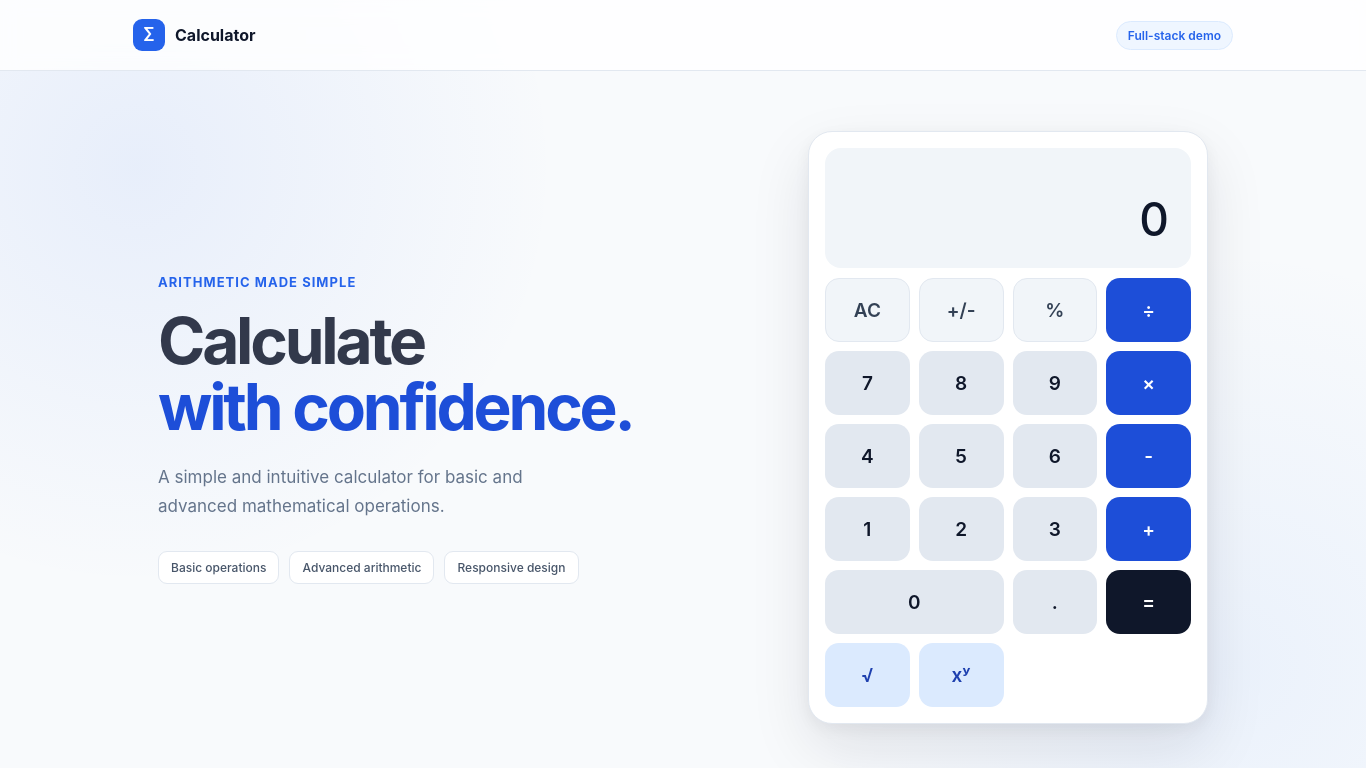
Scenario: Calculator Component › handles square root operation
This screenshot has width=1366, height=768.
Click the button "1" at (867, 529), box [825,497,910,561]
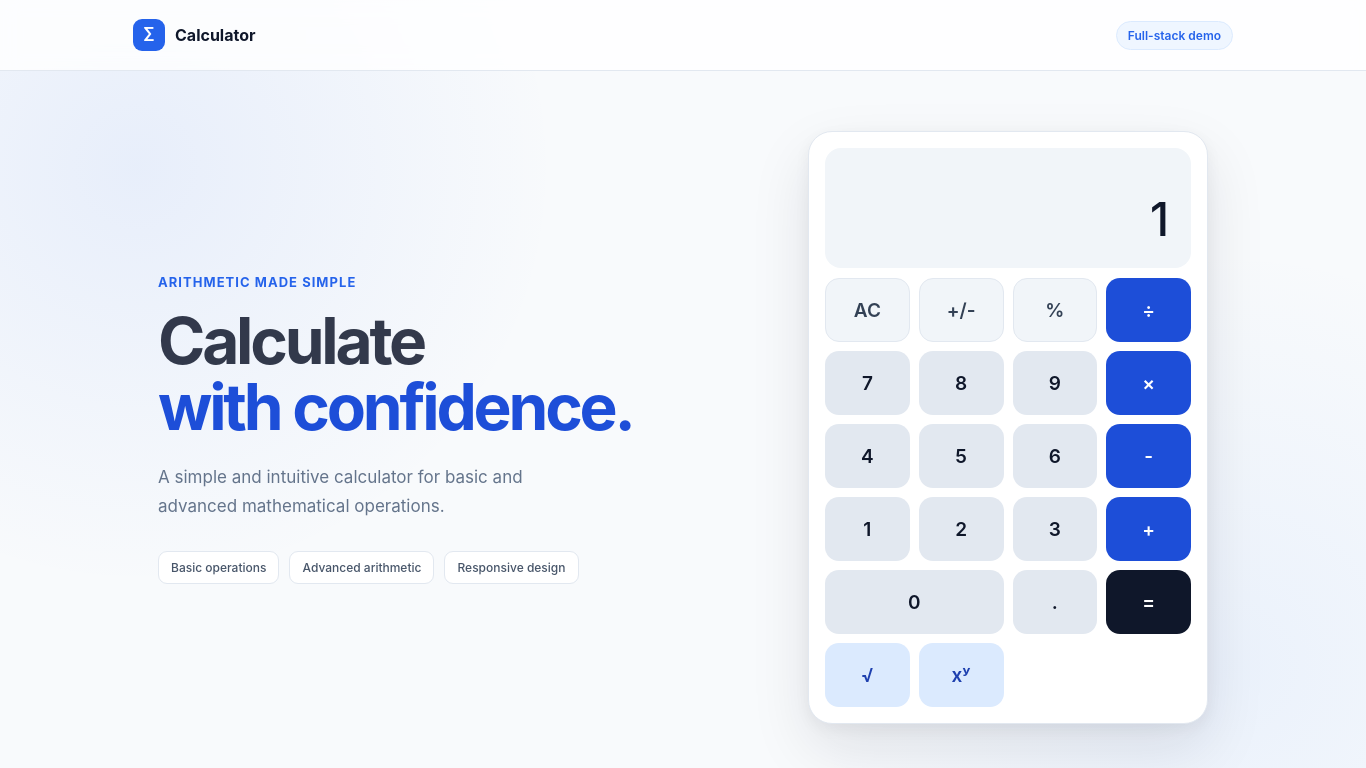
Click the button "2" at (961, 529), box [919,497,1004,561]
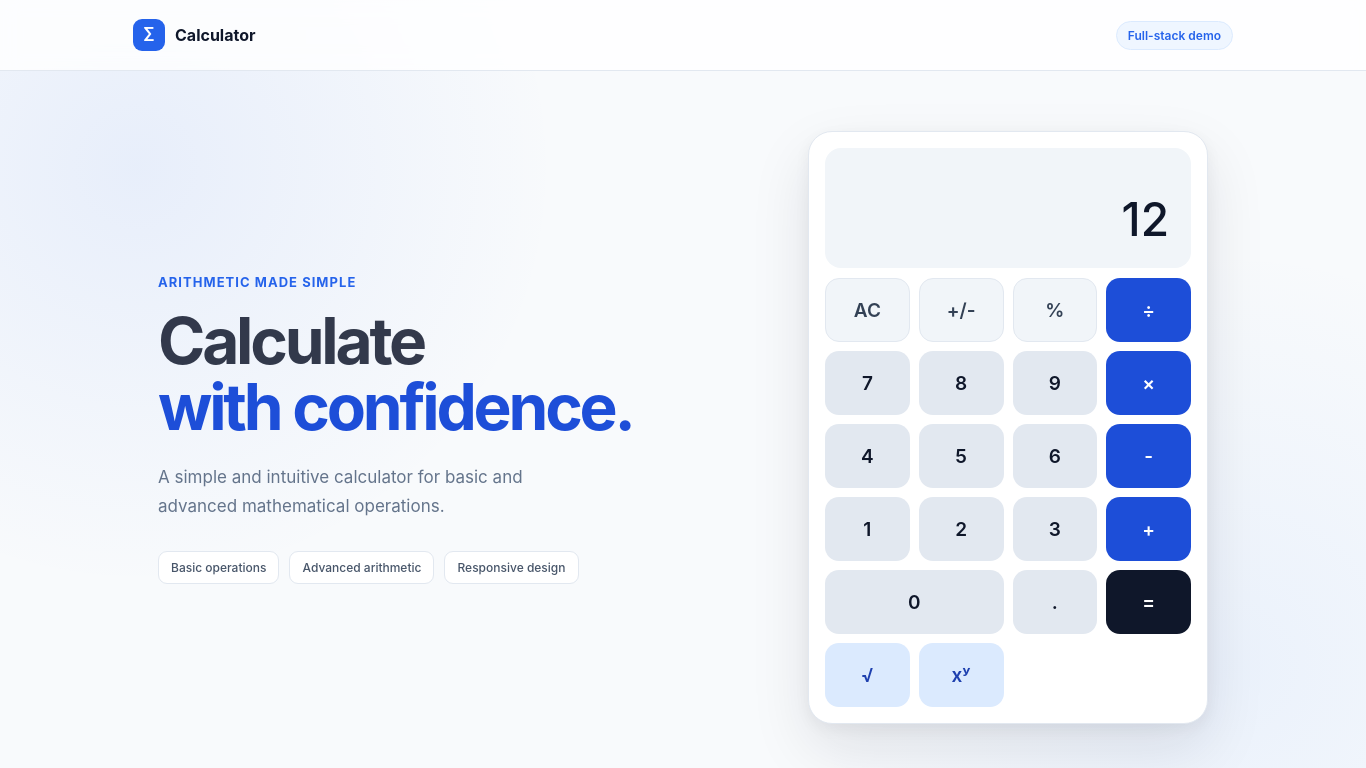
Click the button "1" at (867, 529), box [825,497,910,561]
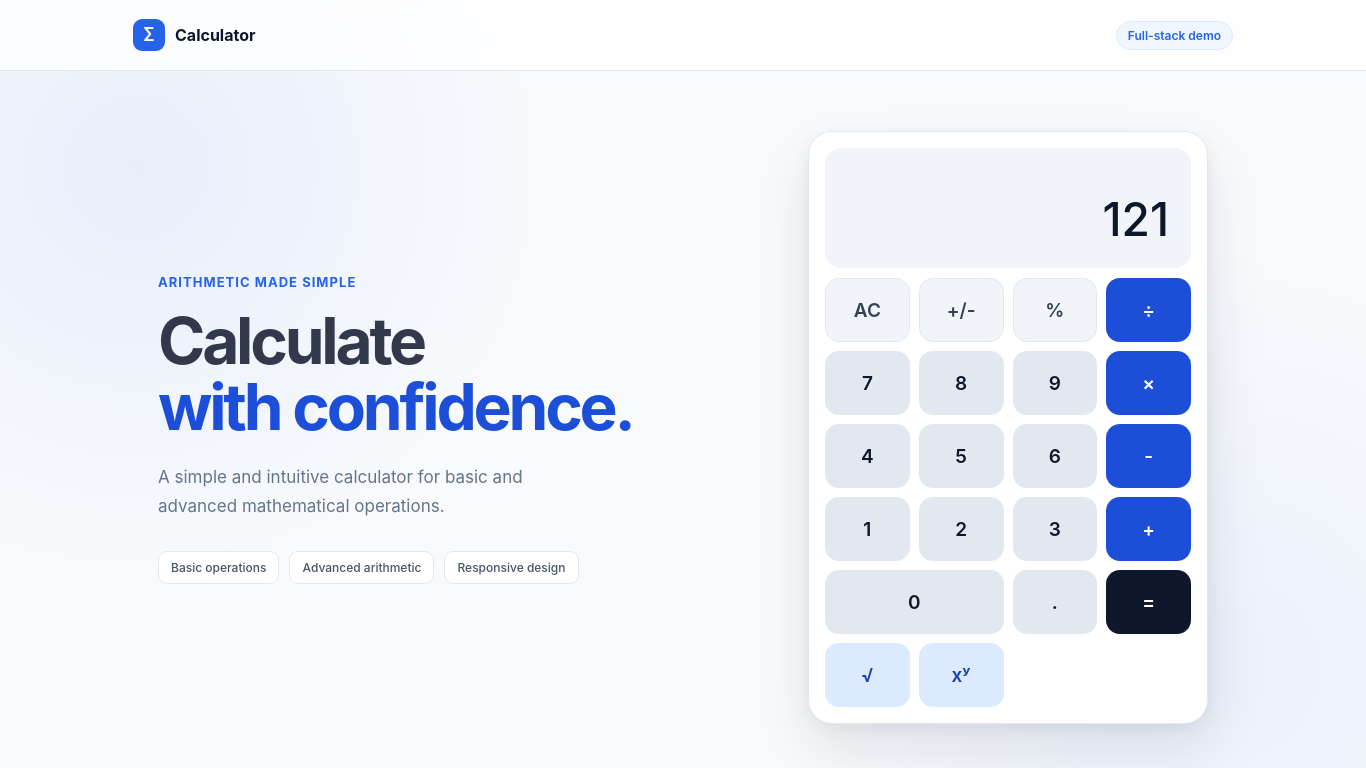
Click the button "√" at (867, 675), box [825,643,910,707]
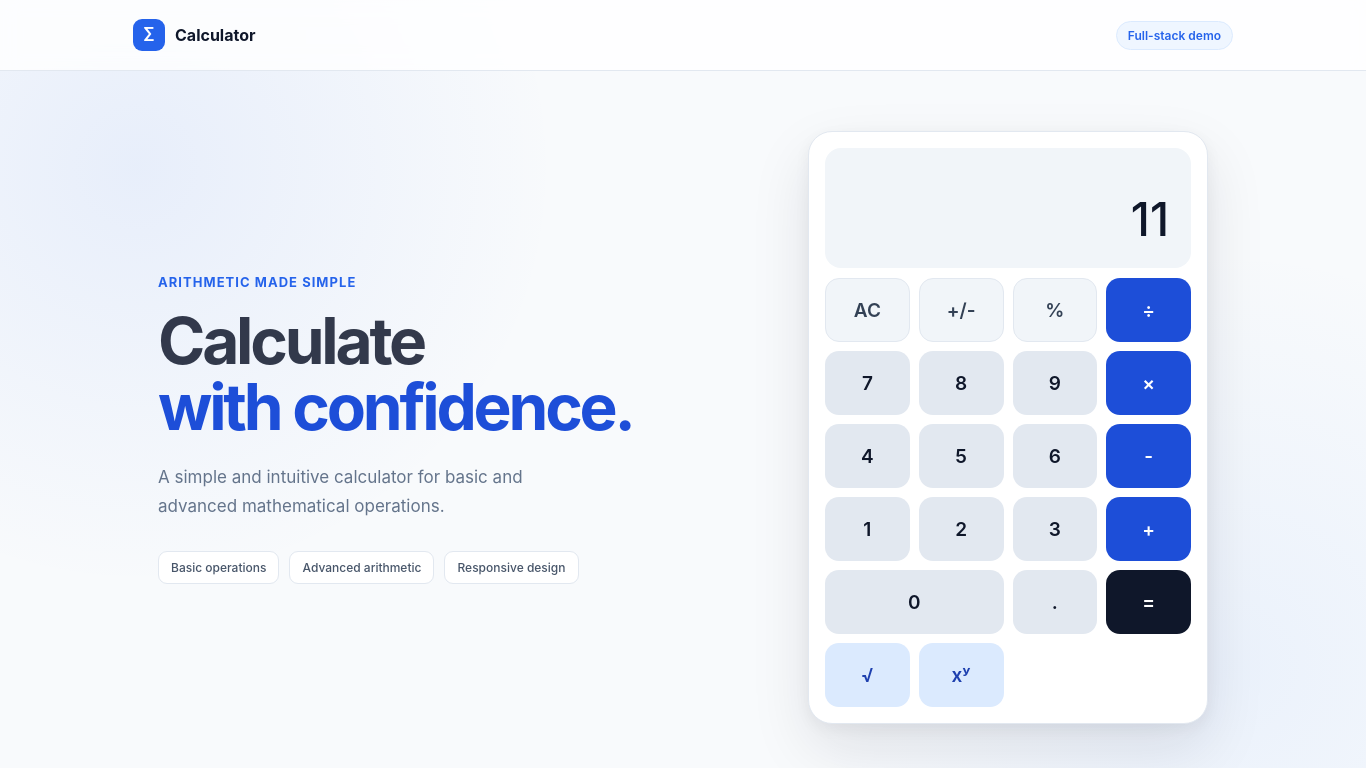
expect the field showing "11" is shown: met, box [845,190,1171,248]
